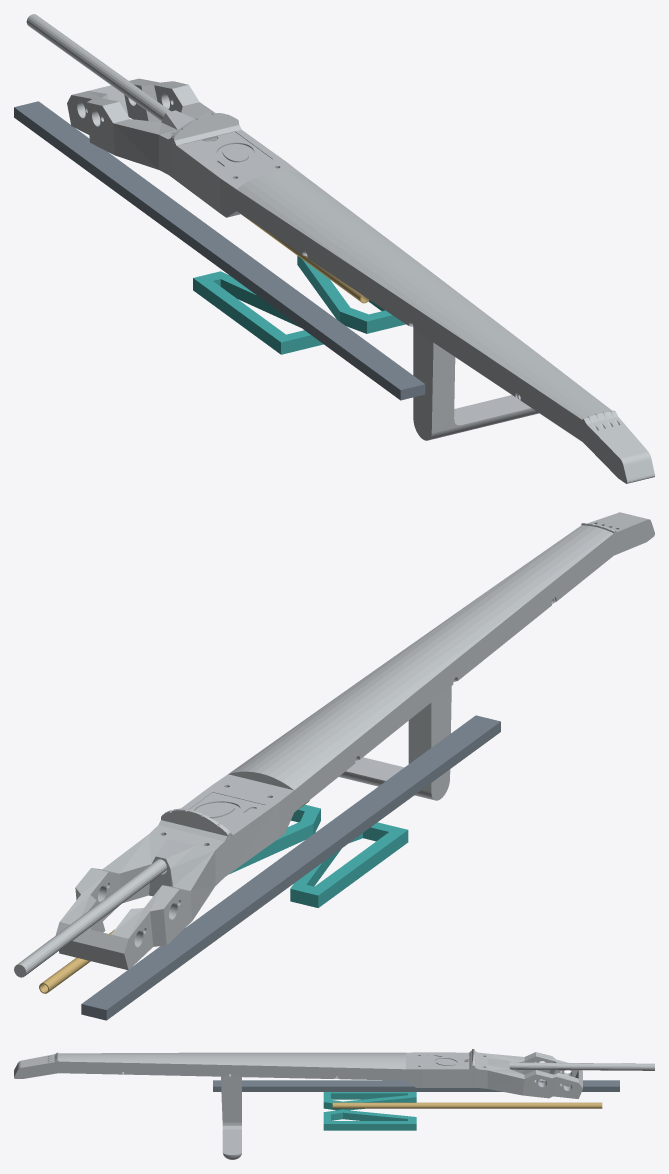
The model's file is travel_study.glb.
The picture shows the model from 3 angles, top to bottom: view 1: azimuth 30°, elevation 25°; view 2: azimuth 150°, elevation 25°; view 3: azimuth 270°, elevation 25°; orthographic projection. The views are drawn at different scales.
Parts seen in each view (by area): view 1: METAL_RAIL_ENVELOPE_unresolved, Part 3, Part 6, Part 1, Part 2, Part 4, Chest rest, wing_-1, Part 5, Center bar, wing_1, Nameplate (+1 smaller); view 2: METAL_RAIL_ENVELOPE_unresolved, Part 6, Part 3, Part 4, Part 2, Part 1, Part 5, Chest rest, wing_-1, Center bar, wing_1, Nameplate (+1 smaller); view 3: Part 6, METAL_RAIL_ENVELOPE_unresolved, Part 3, Part 2, Part 4, Part 1, ENDPIN_STOW_ASSUMED, Part 5, wing_1, Chest rest, Center bar, wing_-1 (+1 smaller).
Boxes of the visible parts, x1,y1,x2,y2 form: METAL_RAIL_ENVELOPE_unresolved: (14, 101, 425, 400); Part 3: (301, 216, 456, 325); Part 6: (67, 78, 214, 174); Part 1: (514, 365, 654, 483); Part 2: (408, 290, 552, 400); Part 4: (220, 162, 359, 258); Chest rest: (413, 327, 538, 440); wing_-1: (193, 271, 323, 354); Part 5: (159, 124, 286, 217); Center bar: (26, 14, 212, 141); wing_1: (297, 256, 405, 333); Nameplate: (184, 131, 272, 171); METAL_RAIL_ENVELOPE_unresolved: (81, 715, 500, 1020); Part 6: (55, 834, 224, 970); Part 3: (295, 649, 452, 758); Part 4: (212, 725, 360, 832); Part 2: (403, 574, 557, 684); Part 1: (512, 512, 654, 600); Part 5: (149, 785, 284, 876); Chest rest: (339, 686, 451, 800); wing_-1: (290, 822, 408, 907); Center bar: (14, 859, 166, 977); wing_1: (229, 804, 320, 874); Nameplate: (190, 792, 264, 830); Part 6: (478, 1052, 582, 1098); METAL_RAIL_ENVELOPE_unresolved: (213, 1080, 619, 1091); Part 3: (227, 1052, 340, 1079); Part 2: (127, 1052, 233, 1076); Part 4: (340, 1052, 422, 1087); Part 1: (14, 1052, 126, 1078); ENDPIN_STOW_ASSUMED: (332, 1102, 602, 1108); Part 5: (416, 1051, 487, 1087); wing_1: (323, 1109, 416, 1130); Chest rest: (221, 1074, 241, 1159); Center bar: (428, 1062, 654, 1070); wing_-1: (323, 1092, 416, 1110).
Bounding box in the file's own units: 187 × 148 × 1070.
